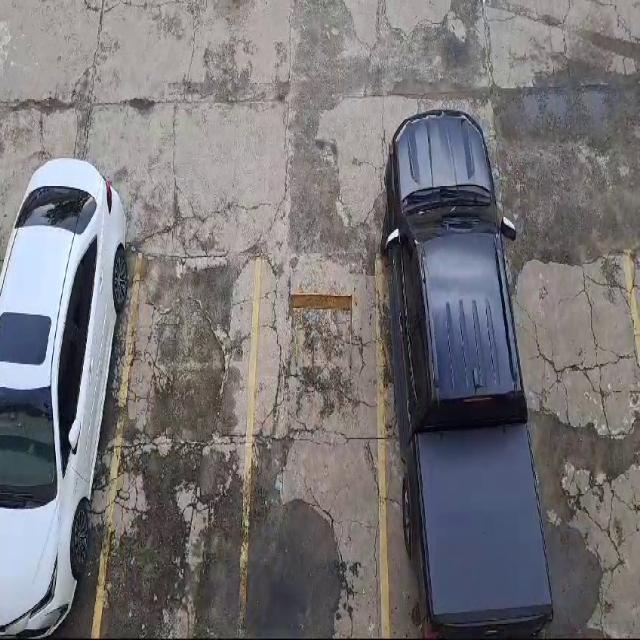empty: (96, 256, 259, 638), (243, 254, 385, 636), (505, 254, 639, 639)
notEmpty: (381, 244, 532, 639), (0, 249, 139, 638)
